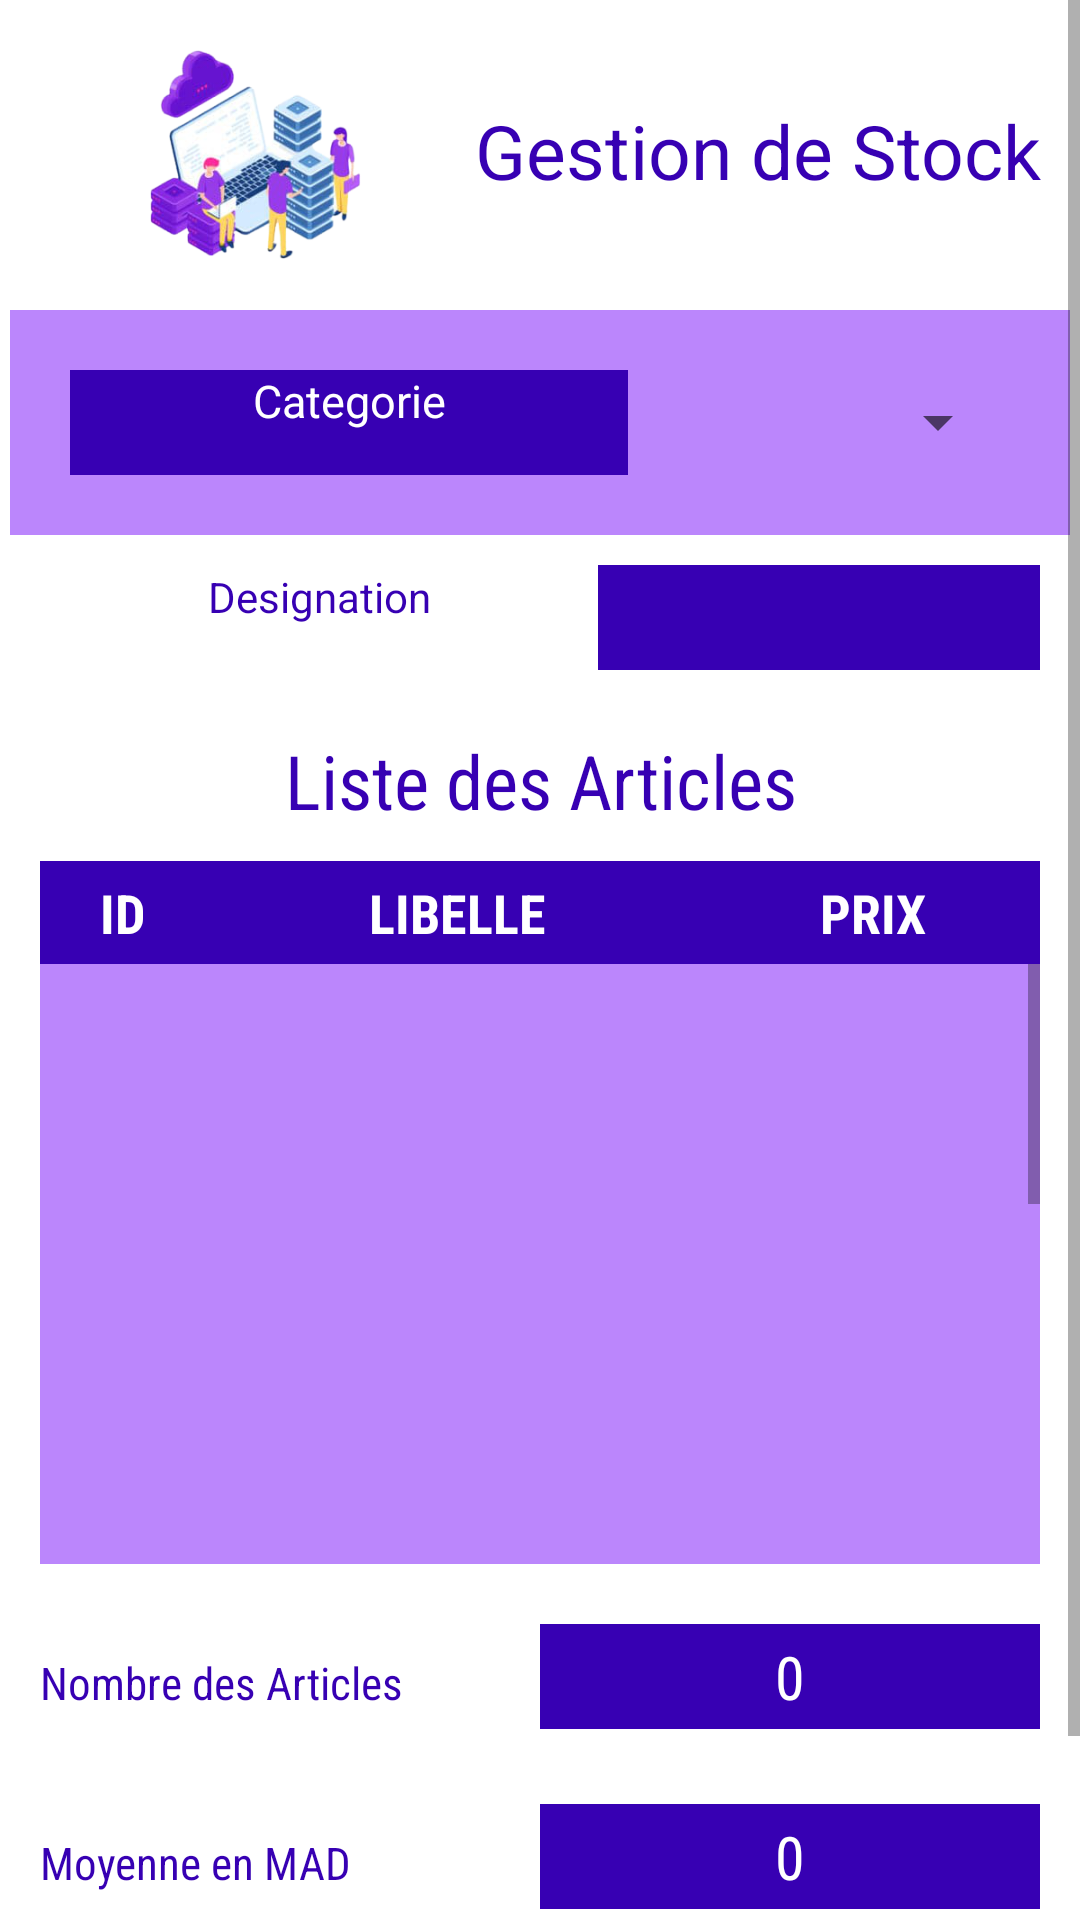

Icon click points for this 1080 x 1920 phone screenshot, format (x,y):
management: (255,154)
